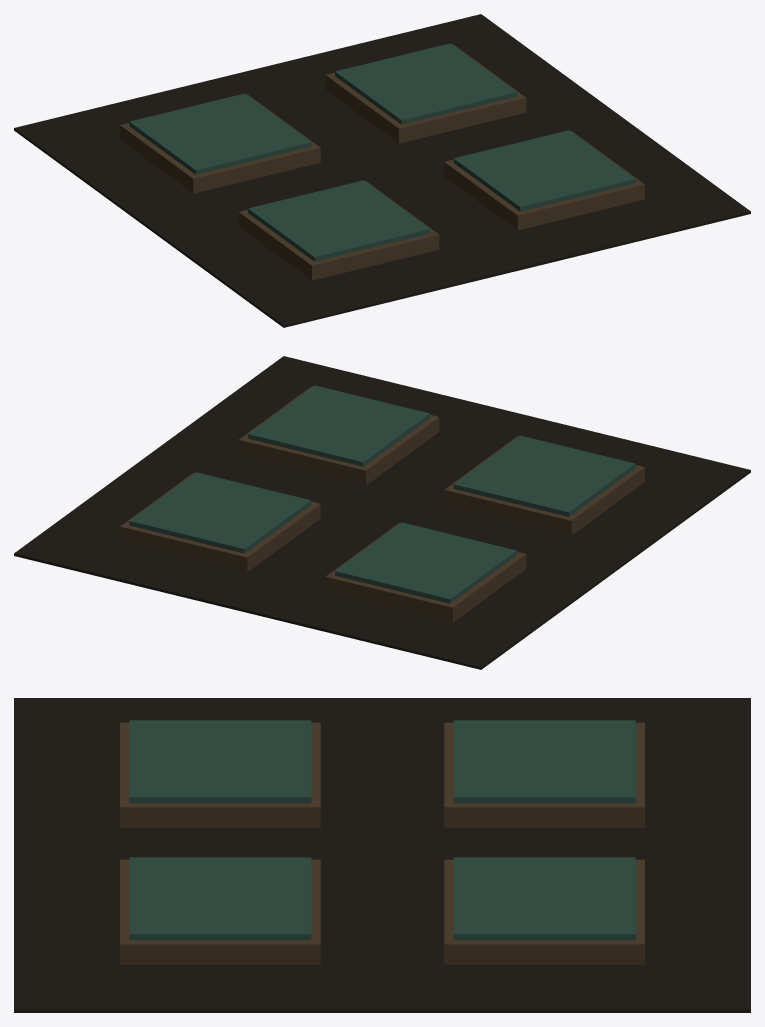
The model's file is CourtyardHerbGarden.fbx.
3 views of the same model, one above another, from view 1: azimuth 30°, elevation 25°; view 2: azimuth 150°, elevation 25°; view 3: azimuth 270°, elevation 25° (orthographic). The views are drawn at different scales.
Visible parts, largest first — view 1: CourtyardHerbGarden; view 2: CourtyardHerbGarden; view 3: CourtyardHerbGarden.
Boxes of the visible parts, box(x1,y1,x2,y2) form: CourtyardHerbGarden: box(14, 14, 750, 327); CourtyardHerbGarden: box(14, 356, 750, 669); CourtyardHerbGarden: box(14, 698, 750, 1012).
Bounding box in the file's own units: 1182 × 53 × 1182.
3 materials, 3 textured.
